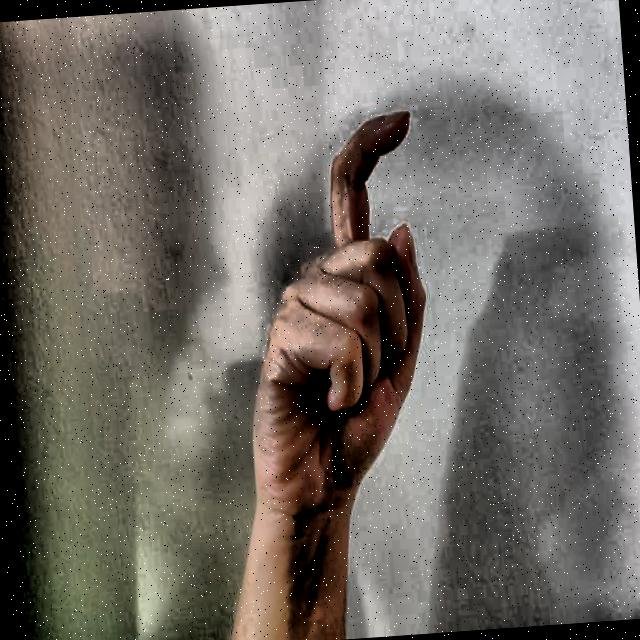E: (199, 66, 456, 530)
